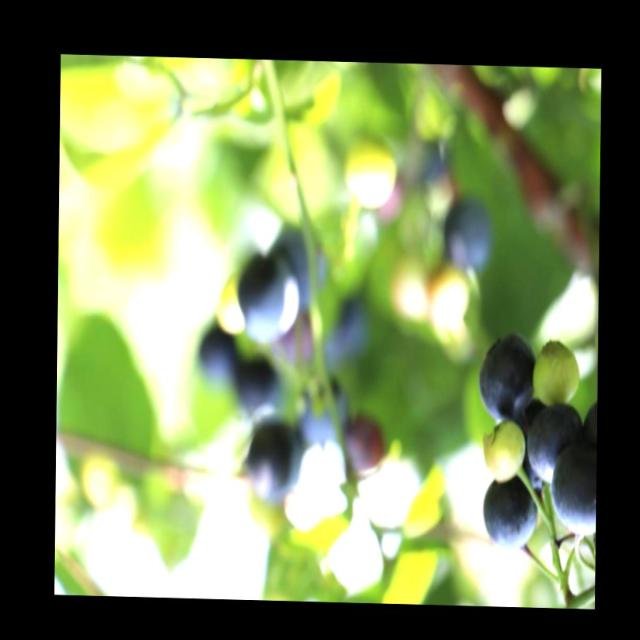blueberry: (477, 333, 542, 418), (240, 252, 295, 342), (550, 436, 596, 536), (524, 407, 580, 482), (481, 480, 538, 551), (249, 427, 299, 500), (443, 204, 489, 274)
blueberry-unripe: (531, 340, 579, 410), (482, 418, 526, 482)
